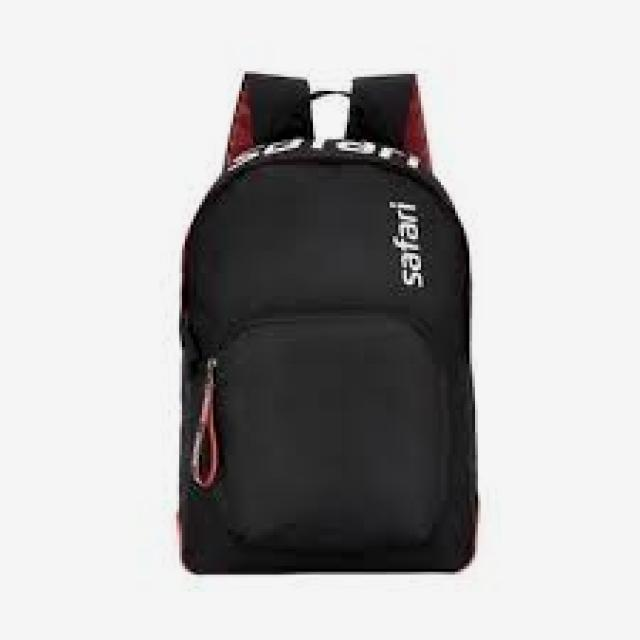backpack: (175, 70, 479, 576)
